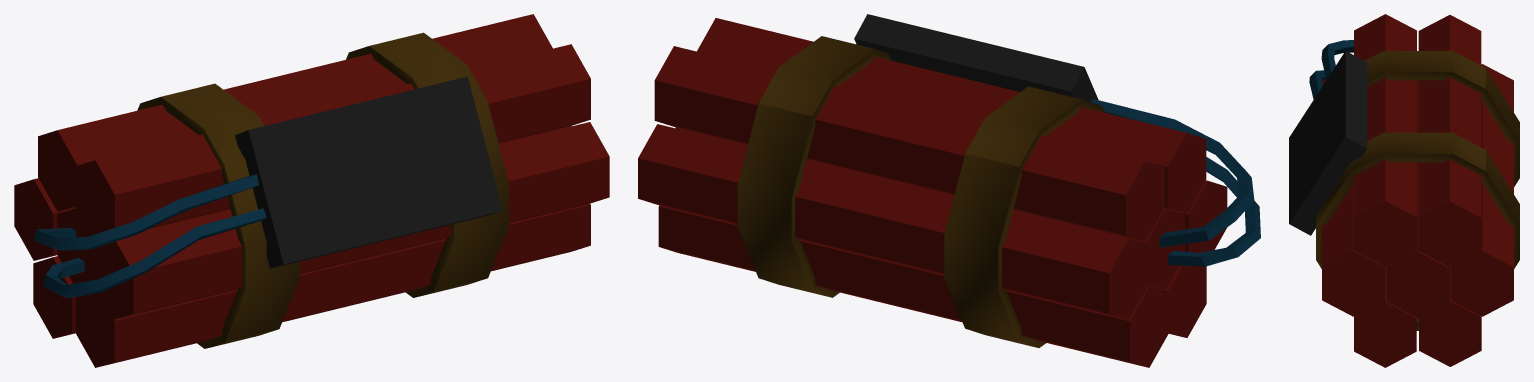
The model's file is SM_P_dynamite.fbx.
3 views of the same model, side by side, from view 1: azimuth 30°, elevation 25°; view 2: azimuth 150°, elevation 25°; view 3: azimuth 270°, elevation 25° (orthographic). The views are drawn at different scales.
Parts seen in each view (by area): view 1: dynamite; view 2: dynamite; view 3: dynamite.
Part boxes in pixels (box(x1,y1,x2,y2)): dynamite: box(14, 14, 609, 367); dynamite: box(638, 14, 1260, 367); dynamite: box(1289, 14, 1519, 367).
Bounding box in the file's own units: 67.01 × 27.66 × 31.21.
